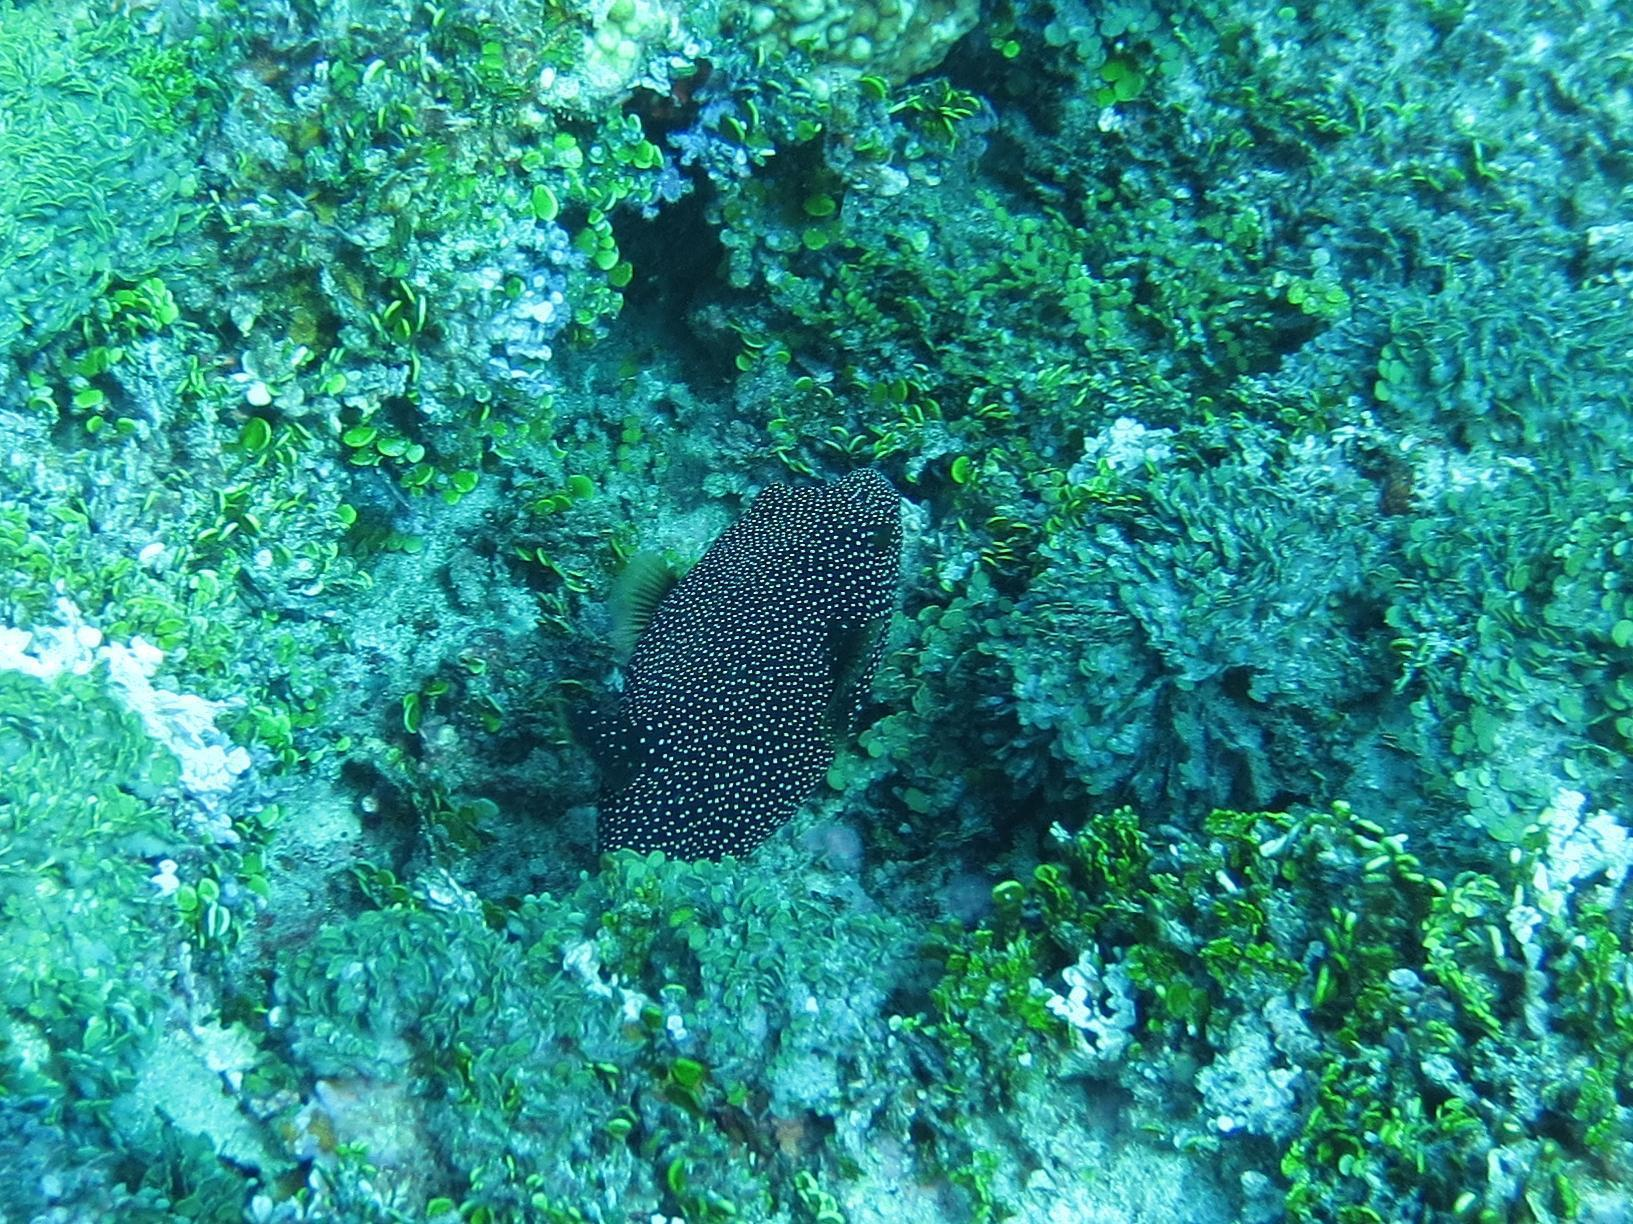Fish: (489, 346, 1002, 986)
